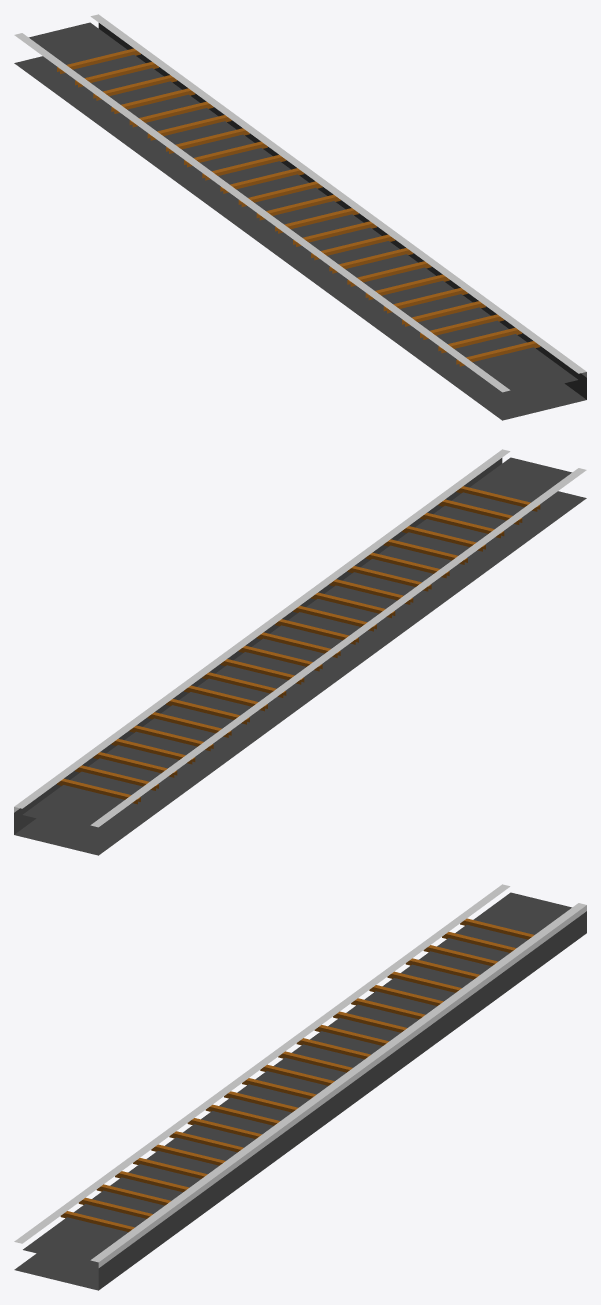
File: LowPolyTrain_Road.fbx
3 renders of one model, top to bottom at view 1: azimuth 30°, elevation 25°; view 2: azimuth 150°, elevation 25°; view 3: azimuth 330°, elevation 25°, orthographic.
Parts seen in each view (by area): view 1: Cube.005, Cube.006; view 2: Cube.005, Cube.006; view 3: Cube.005, Cube.006.
Part boxes in pixels (x1,y1,x2,y2): Cube.005: (14,14,586,420); Cube.006: (57,48,540,366); Cube.005: (14,449,586,855); Cube.006: (57,486,540,804); Cube.005: (14,884,586,1290); Cube.006: (60,918,534,1232).
Size of the model in its own units: 200 by 63.69 by 1999.
Materials: 1 (1 with a texture image).
